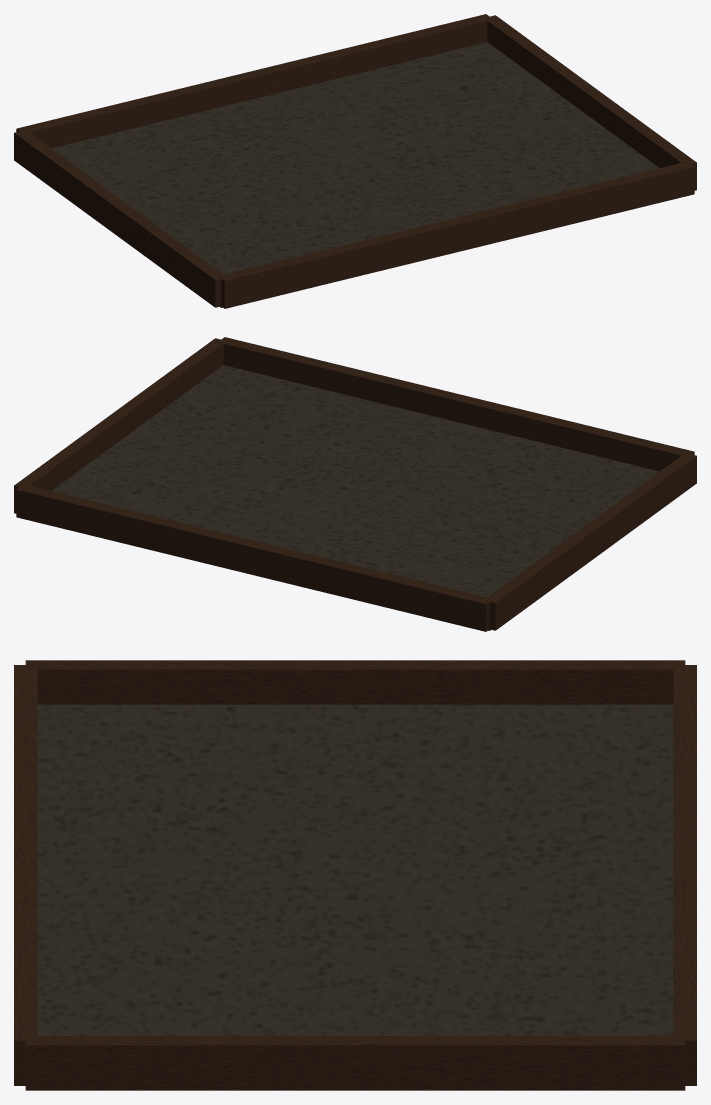
3 views of the same model, one above another, from view 1: azimuth 30°, elevation 25°; view 2: azimuth 150°, elevation 25°; view 3: azimuth 270°, elevation 25° (orthographic). The views are drawn at different scales.
Parts seen in each view (by area): view 1: c-pan; view 2: c-pan; view 3: c-pan.
Boxes of the visible parts, x1,y1,x2,y2 form: c-pan: (14, 14, 696, 308); c-pan: (14, 337, 696, 631); c-pan: (14, 660, 696, 1090).
Size of the model in its own units: 0.6 by 0.035 by 0.45.
Materials: 2 (2 with a texture image).
